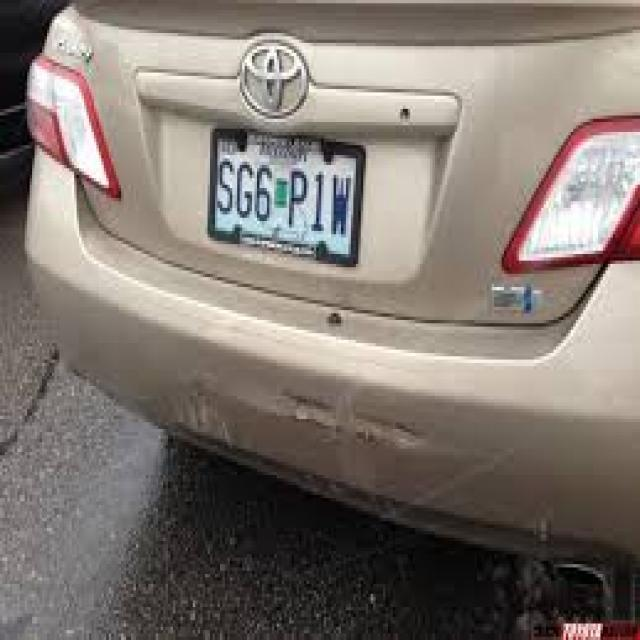minor: (195, 334, 440, 459)
